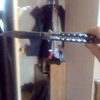knife: (1, 28, 96, 44)
